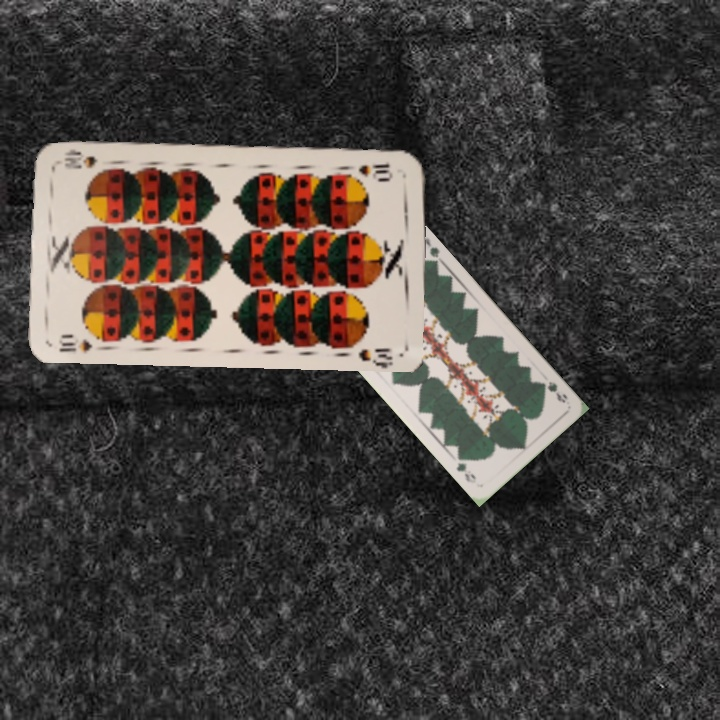G9: (535, 377, 570, 405)
S10: (54, 330, 94, 355), (354, 160, 396, 180)
